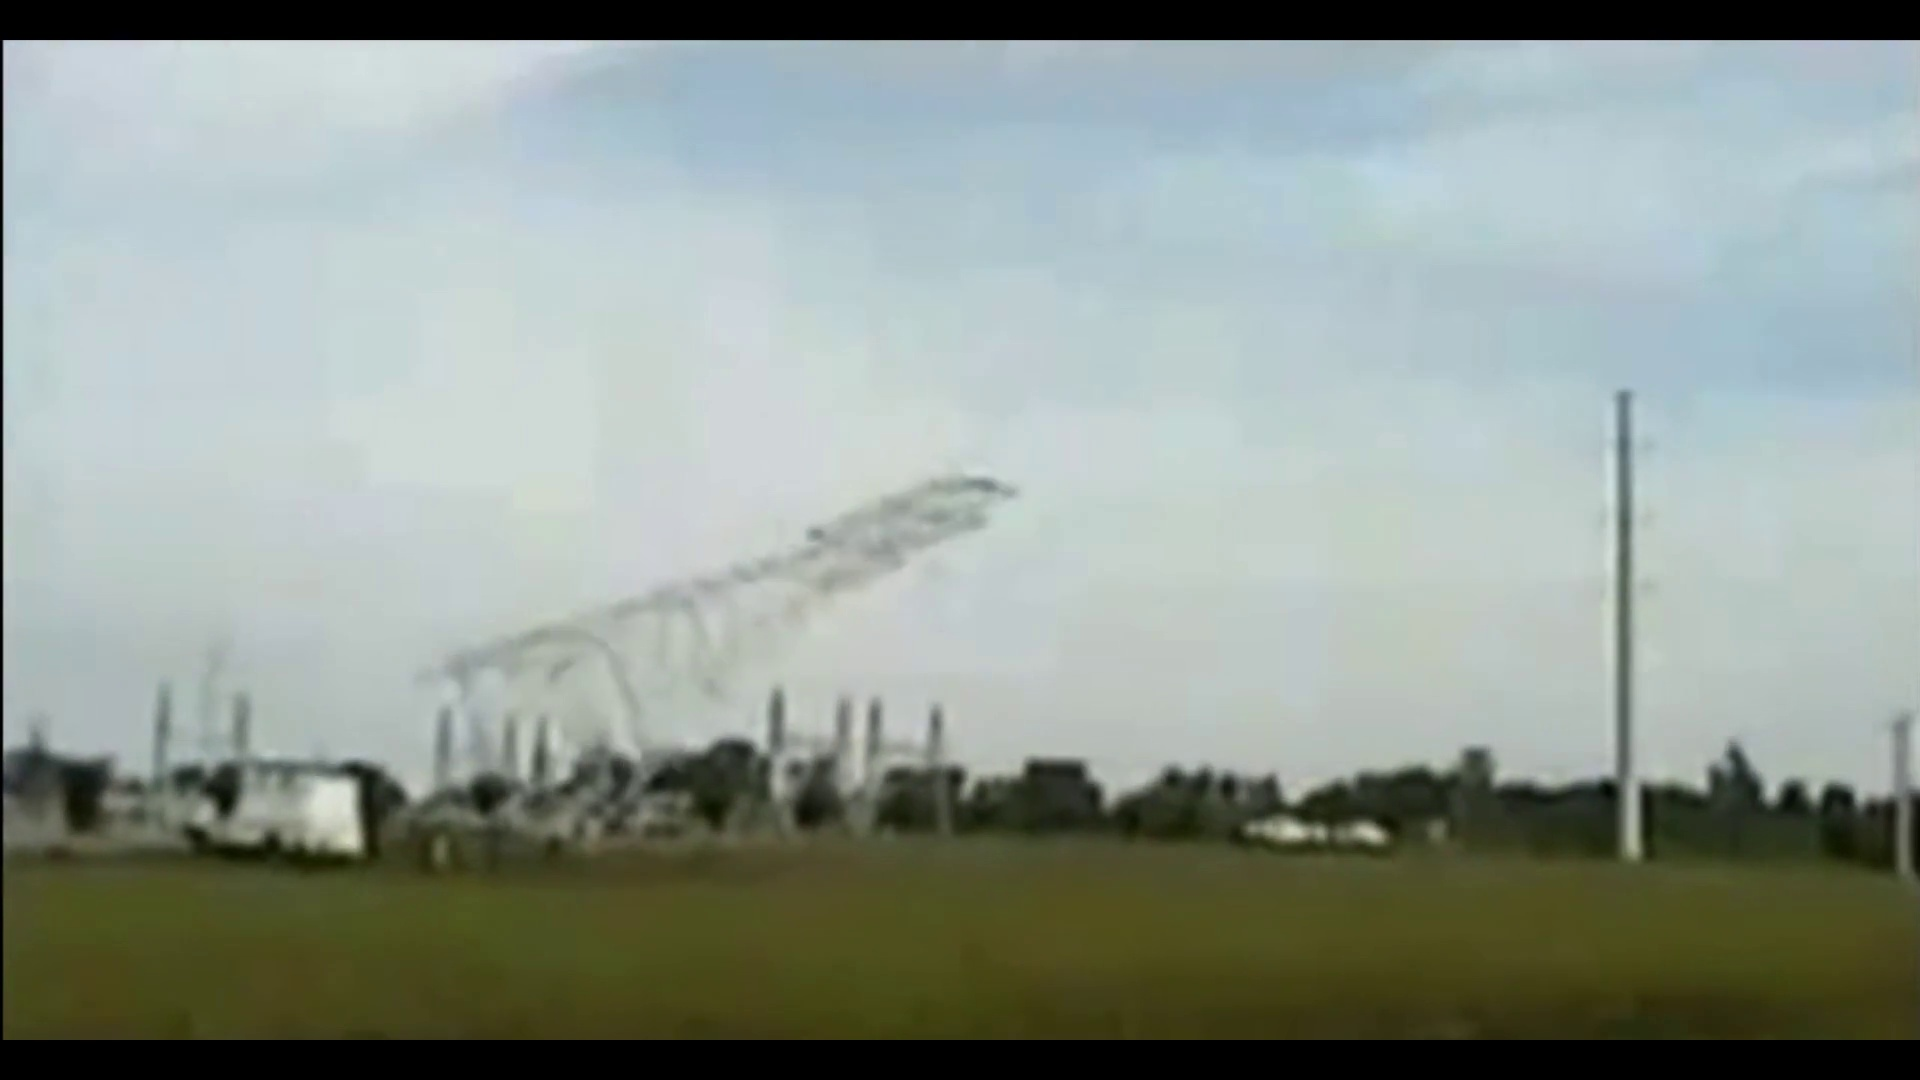tower_down: (431, 431, 1029, 783)
